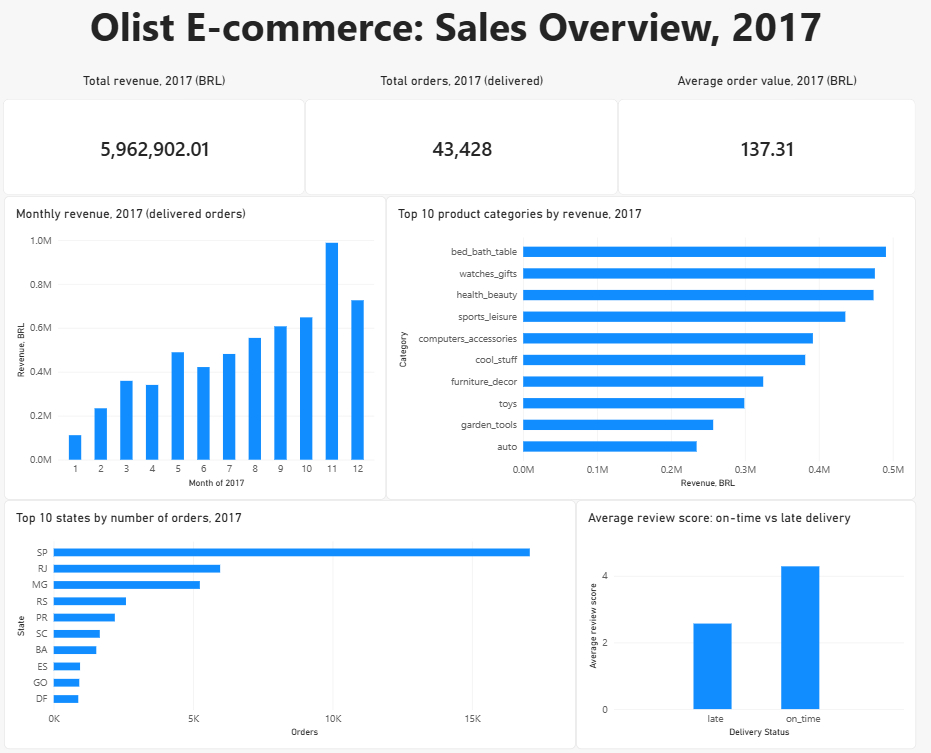

What the dashboard file says about the page in this screenshot:
{"tool":"powerbi","page":{"name":"Страница 1","canvas":[1920,1080],"ordinal":0},"visuals":[{"type":"cardVisual","title":"Total revenue, 2017 (BRL)","fields":{"Data":["Sum(kpi_2017.total_revenue)"]},"box":[10,105.7,431.4,174.3],"z":0},{"type":"cardVisual","title":"Total orders, 2017 (delivered)","fields":{"Data":["Sum(kpi_2017.total_orders)"]},"box":[441.4,105.7,447.1,174.3],"z":1000},{"type":"cardVisual","title":"Average order value, 2017 (BRL)","fields":{"Data":["Sum(kpi_2017.avg_order_value)"]},"box":[888.6,105.7,425.7,174.3],"z":2000},{"type":"clusteredColumnChart","title":"Monthly revenue, 2017 (delivered orders)","fields":{"Category":["monthly_revenue.month"],"Y":["Sum(monthly_revenue.revenue)"]},"box":[11.2,281.2,546.2,433.8],"z":3000},{"type":"clusteredColumnChart","title":"Average review score: on-time vs late delivery","fields":{"Category":["delivery_vs_review.delivery_status"],"Y":["Sum(delivery_vs_review.avg_score)"]},"box":[828.6,715.7,485.7,355.7],"z":4000},{"type":"clusteredBarChart","title":"Top 10 product categories by revenue, 2017","fields":{"Category":["top_categories.category"],"Y":["Sum(top_categories.revenue)"]},"box":[557.1,281.4,757.1,434.3],"z":5000},{"type":"clusteredBarChart","title":"Top 10 states by number of orders, 2017","fields":{"Category":["orders_by_state.state"],"Y":["Sum(orders_by_state.orders)"]},"box":[11.4,715.7,817.1,355.7],"z":5001},{"type":"textbox","box":[0,0,1314.3,280],"z":5002}]}

Visuals, with their boxes on the page's 1920x1080 design canvas (x1, y1, x2, y2). These are canvas units, not pixel positions in the 931x753 screenshot, which may show the page scaled, cropped or inside an application window:
"Total revenue, 2017 (BRL)" cardVisual: bbox(10, 106, 441, 280)
"Total orders, 2017 (delivered)" cardVisual: bbox(441, 106, 888, 280)
"Average order value, 2017 (BRL)" cardVisual: bbox(889, 106, 1314, 280)
"Monthly revenue, 2017 (delivered orders)" clusteredColumnChart: bbox(11, 281, 557, 715)
"Average review score: on-time vs late delivery" clusteredColumnChart: bbox(829, 716, 1314, 1071)
"Top 10 product categories by revenue, 2017" clusteredBarChart: bbox(557, 281, 1314, 716)
"Top 10 states by number of orders, 2017" clusteredBarChart: bbox(11, 716, 828, 1071)
textbox: bbox(0, 0, 1314, 280)
